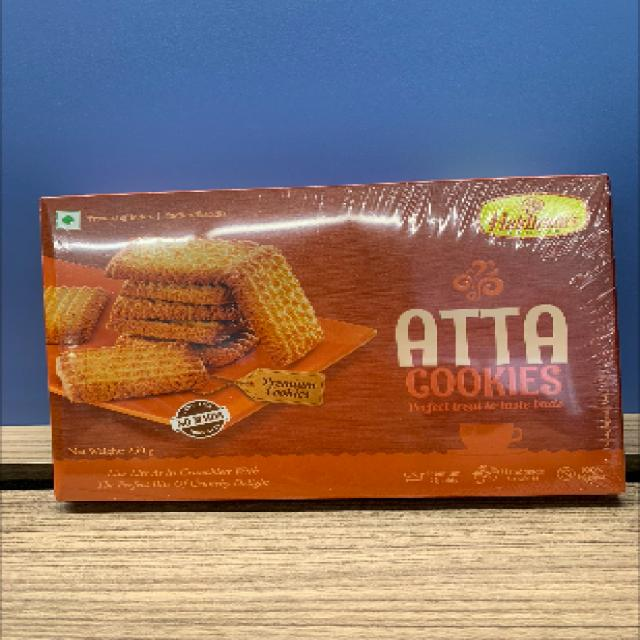object_name: (43, 186, 612, 504)
